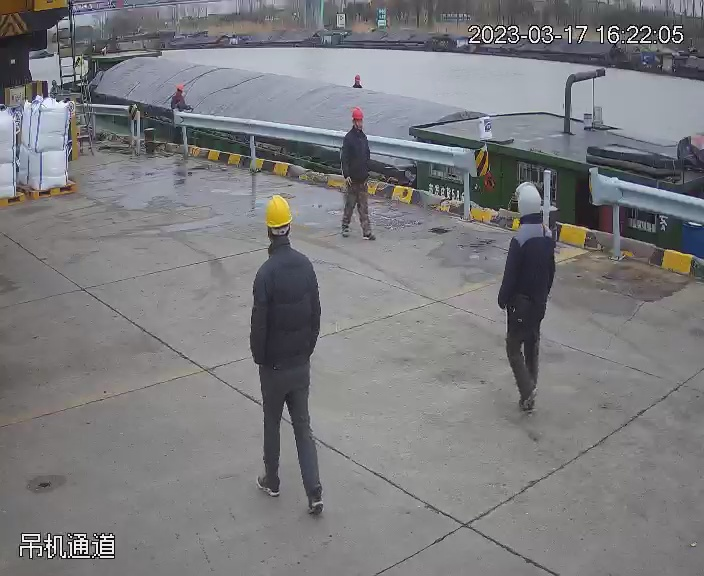head: (254, 195, 318, 288), (508, 182, 557, 270), (342, 104, 372, 152), (170, 81, 192, 118)
helmet: (516, 179, 548, 219), (263, 195, 294, 227), (348, 104, 368, 121), (176, 82, 185, 93), (354, 73, 361, 83)
people: (249, 201, 327, 511), (500, 179, 557, 414), (335, 102, 382, 243)
